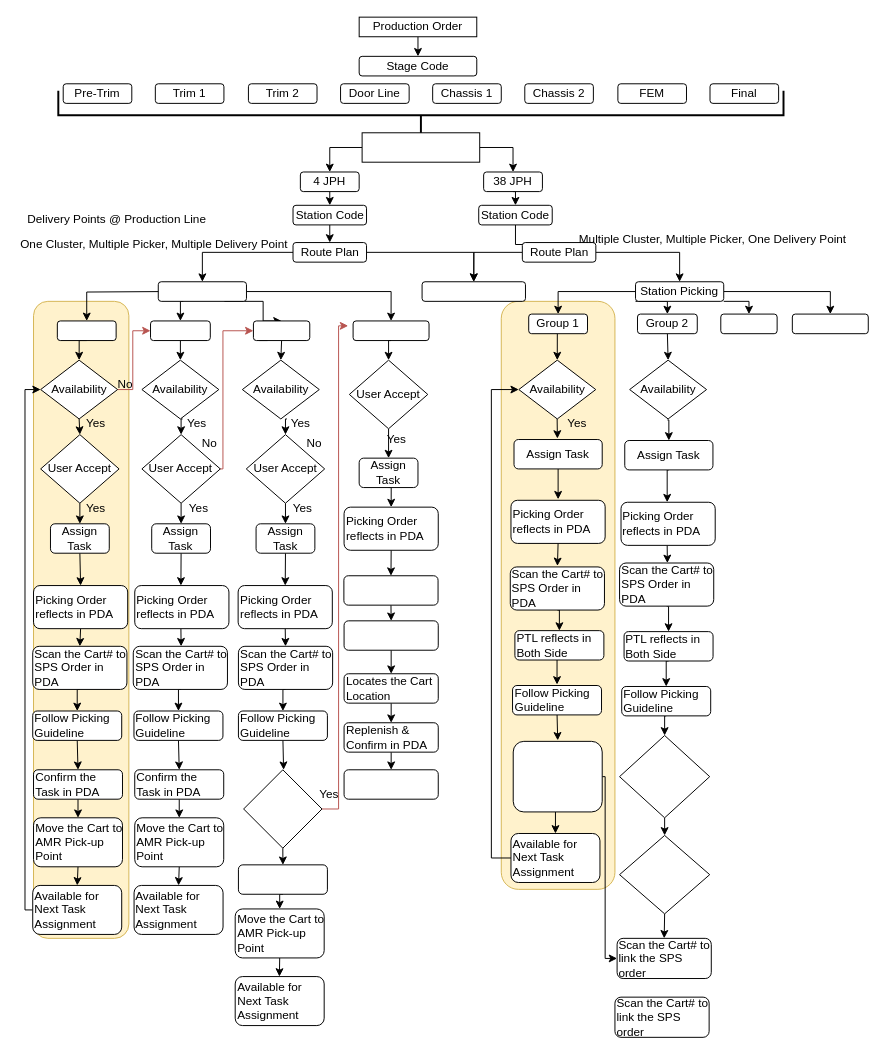
This 885x1055 diagram has some shape labels left out. Here are the shapes that lost their labels. From the top down, the centre of each, then its label:
At (x=420, y=147): "Production Rate".
At (x=201, y=291): "Cluster Picking".
At (x=473, y=291): "Internal Sequence".
At (x=86, y=330): "Picker 1".
At (x=180, y=330): "Picker 2".
At (x=281, y=330): "Picker 3".
At (x=390, y=330): "Buffer Picker".
At (x=748, y=323): "Group 3".
At (x=829, y=323): "Buffer Group".
At (x=390, y=590): "Accept the Order".
At (x=390, y=635): "Picks the Part from Primary WH".
At (x=390, y=784): "Order is Closed".
At (x=557, y=776): "Complete & Confirm the Task to Unlink Order from Cluster".
At (x=664, y=776): "One Picker finished early".
At (x=282, y=808): "Parts Shortage".
At (x=282, y=879): "Turn Off PTL Escalation **".
At (x=664, y=874): "Order in Pipeline".
